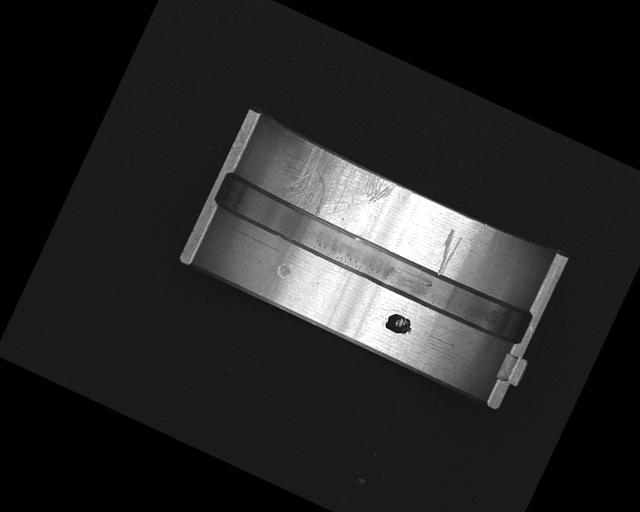blot: (382, 309, 416, 339)
bruise: (274, 257, 295, 281)
gap: (211, 170, 535, 348)
nick: (429, 227, 465, 278)
scratch: (271, 135, 396, 242)
